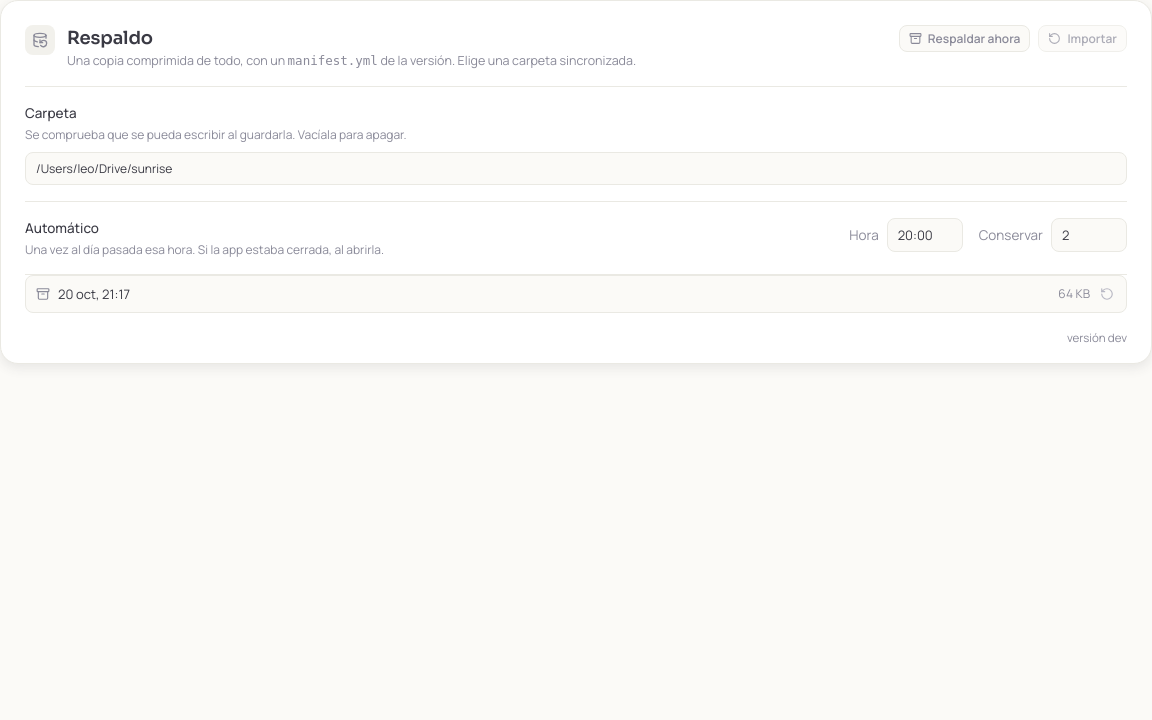
BackupCard · restaurar › no restaura sin pasar por la confirmación
Click the button "Respaldar ahora". click: [965, 38]
box: [899,25,1030,52]
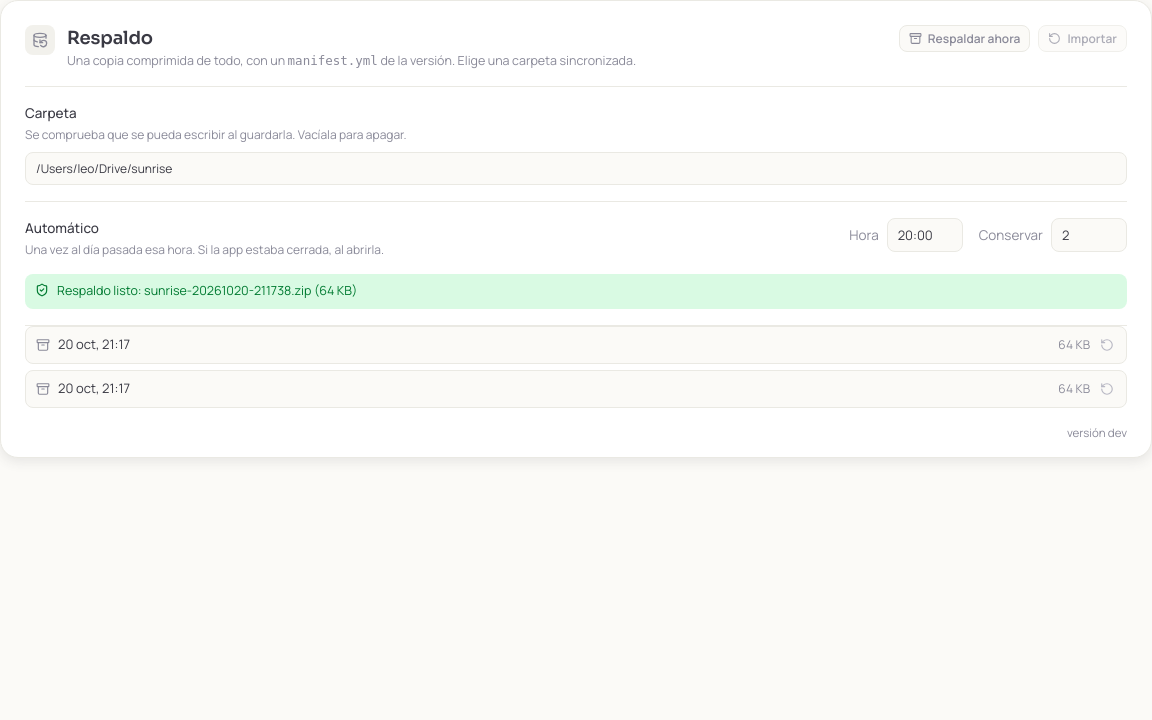
Click the 1st button named "Restaurar el respaldo del". click: [1107, 344]
box: [1098,336,1116,354]
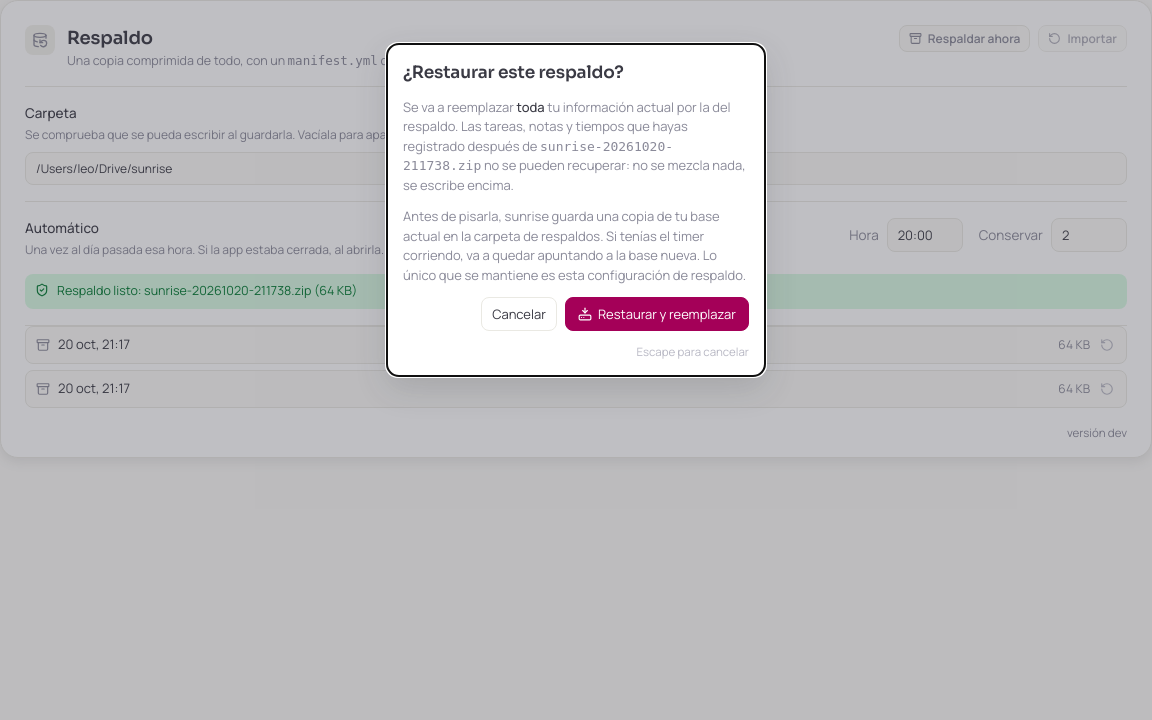
Now the dialog named "Confirmar restauración" shows "no se pueden recuperar", box [403,156,746,194]
Now the dialog named "Confirmar restauración" shows "guarda una copia de tu base actual", box [403,207,746,284]
Click the button "Cancelar". click: [519, 314]
box: [481,297,557,331]
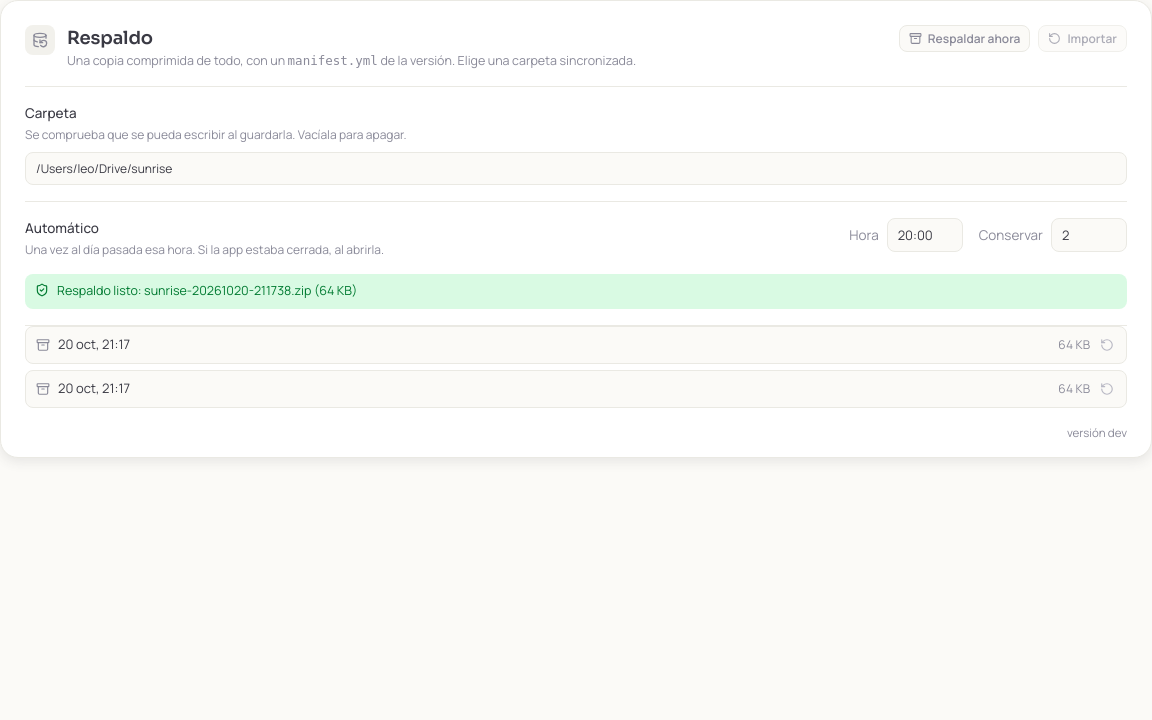
Now the dialog is gone
